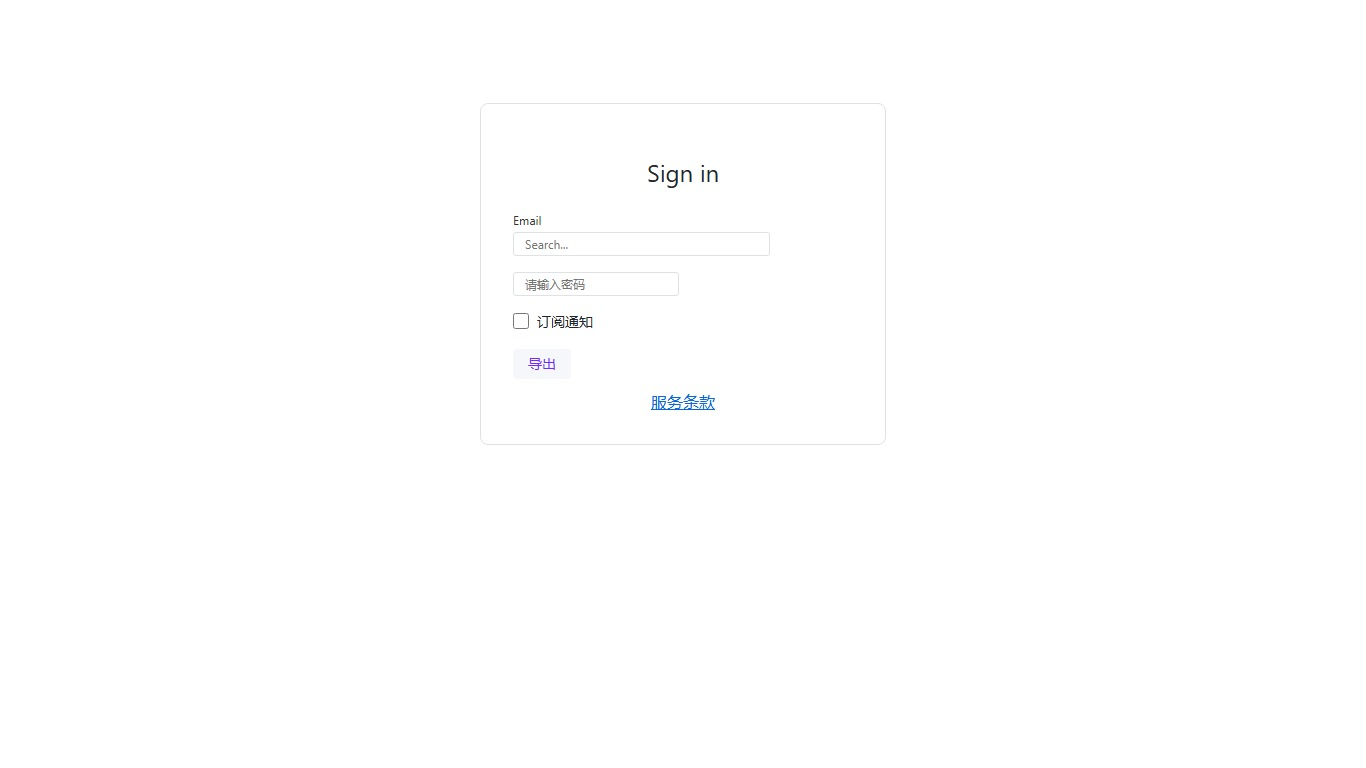button: (513, 349, 571, 379)
checkbox: (513, 313, 529, 329)
icon: (537, 312, 593, 331)
input: (513, 232, 770, 256), (513, 272, 679, 296)
link: (651, 391, 715, 412)
radio: (513, 312, 593, 331)
